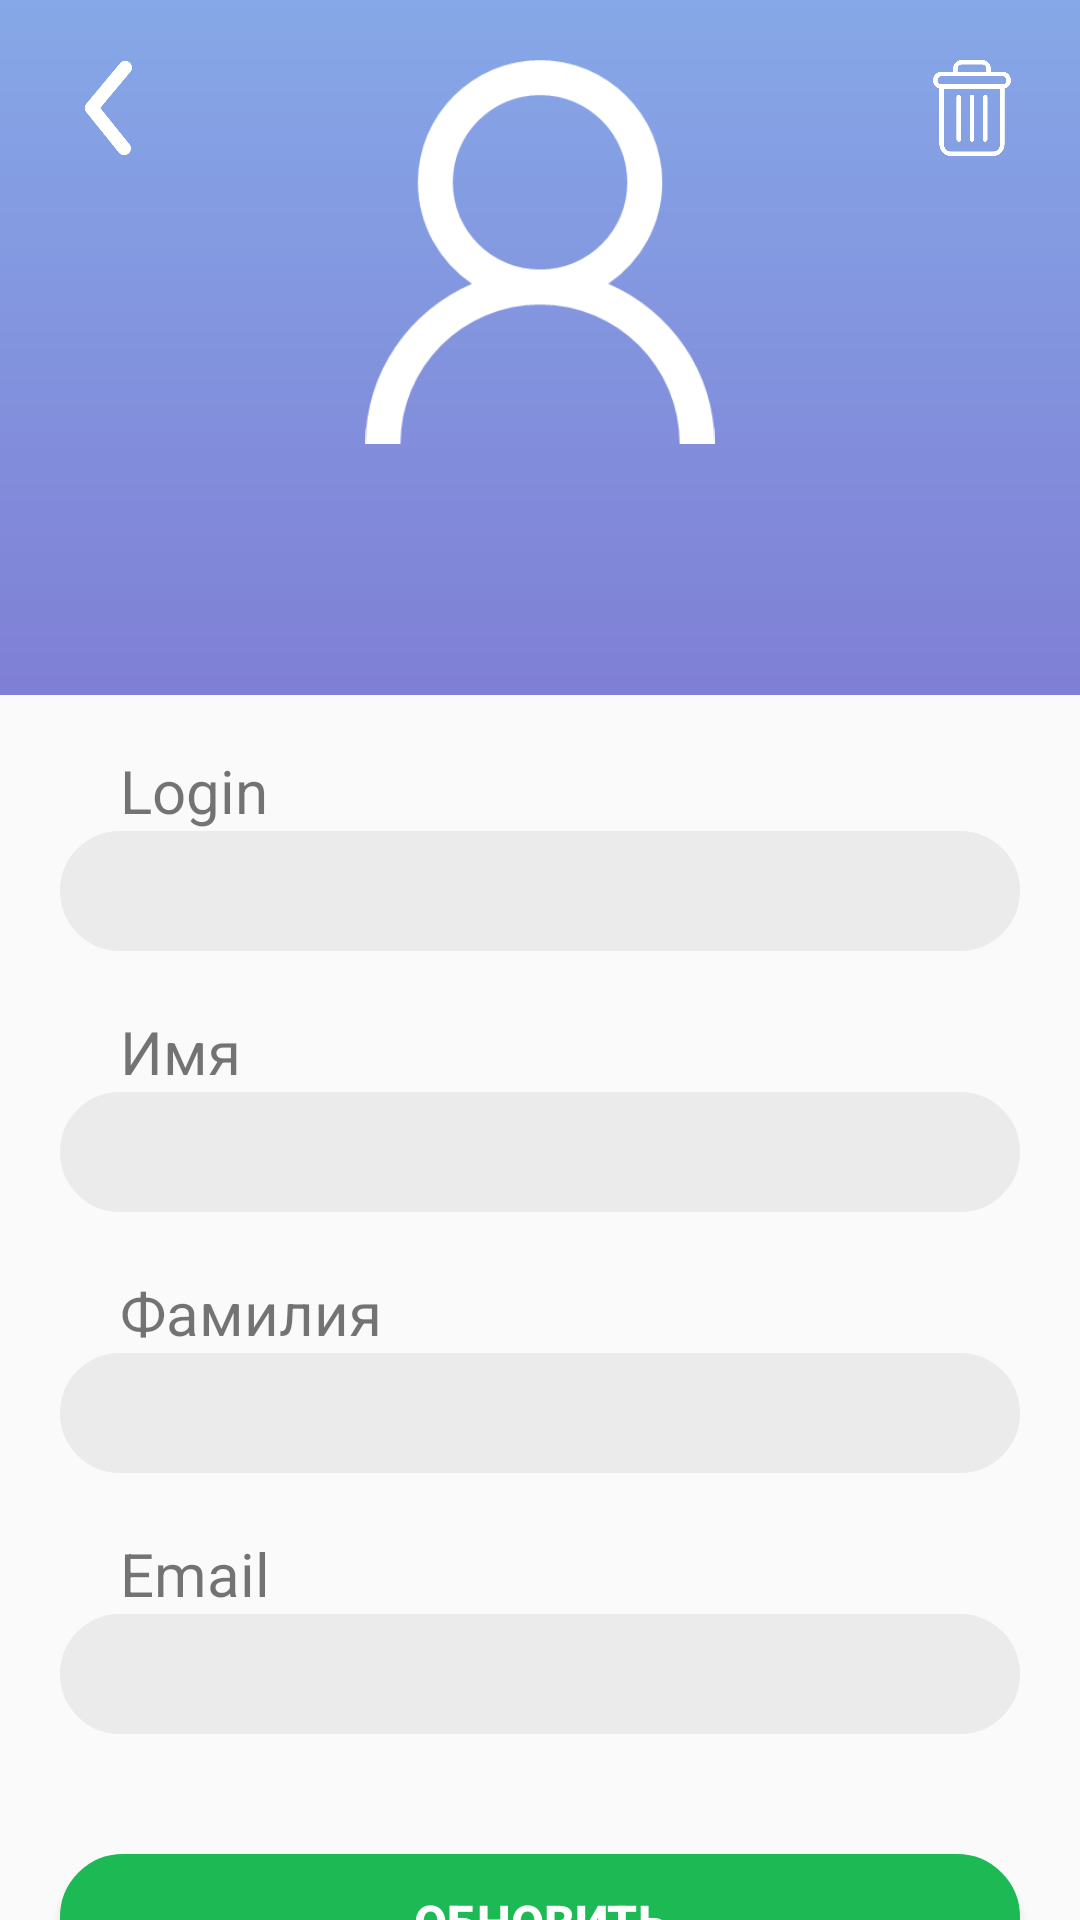

Icons on this 1080 x 1920 Android screen, each with its box as [x1, y1, x2, y2]:
back: [85, 61, 132, 155]
delete: [933, 60, 1011, 156]
